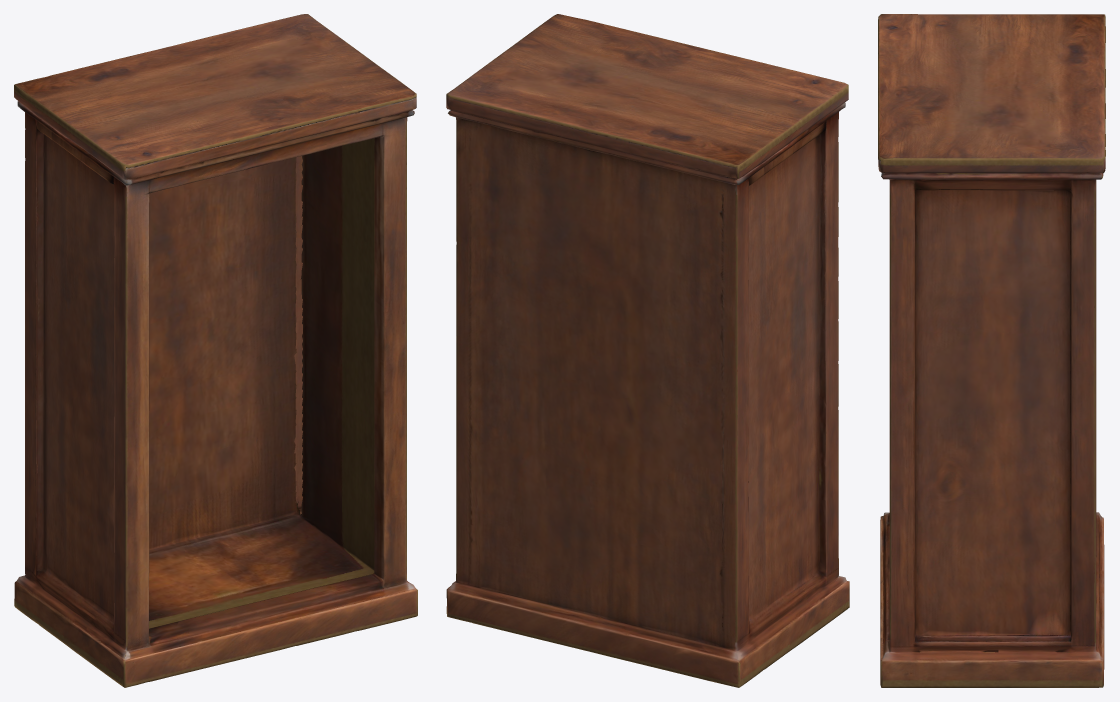
The model's file is closet.fbx.
3 views of the same model, side by side, from view 1: azimuth 30°, elevation 25°; view 2: azimuth 150°, elevation 25°; view 3: azimuth 270°, elevation 25° (orthographic).
Visible parts, largest first — view 1: obj1; view 2: obj1; view 3: obj1.
Boxes of the visible parts, x1,y1,x2,y2 form: obj1: (14,14,417,687); obj1: (446,14,849,687); obj1: (878,14,1105,687).
Size of the model in its own units: 118 by 200 by 78.05.
Materials: 1 (1 with a texture image).
